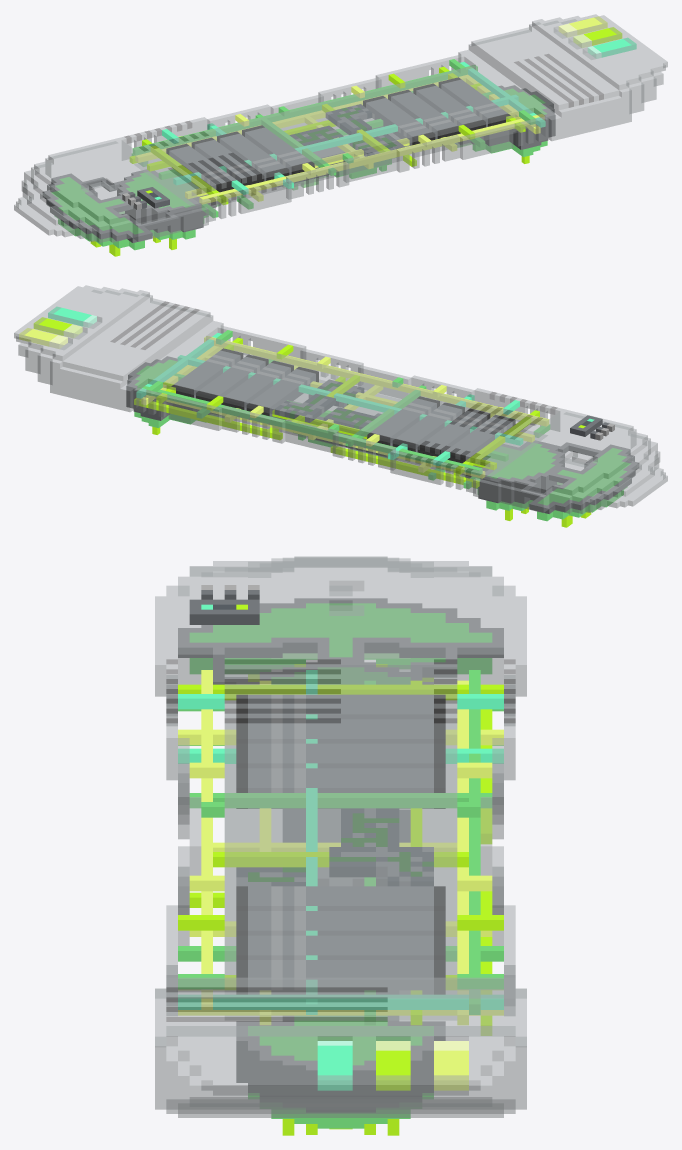
File: hoverboard_01.glb
The picture shows the model from 3 angles, top to bottom: view 1: azimuth 30°, elevation 25°; view 2: azimuth 150°, elevation 25°; view 3: azimuth 270°, elevation 25°; orthographic projection. The views are drawn at different scales.
Parts seen in each view (by area): view 1: board, emission.vox-0, metal-details.vox-0; view 2: board, emission.vox-0, metal-details.vox-0; view 3: board, emission.vox-0, metal-details.vox-0.
Boxes of the visible parts, <box> form: board: <box>14,14,667,242</box>; emission.vox-0: <box>51,16,636,256</box>; metal-details.vox-0: <box>42,85,555,242</box>; board: <box>14,285,667,513</box>; emission.vox-0: <box>19,306,630,527</box>; metal-details.vox-0: <box>126,356,639,513</box>; board: <box>155,556,526,1117</box>; emission.vox-0: <box>178,603,503,1135</box>; metal-details.vox-0: <box>178,585,503,1112</box>.
Size of the model in its own units: 12 by 1.6 by 3.2.
3 materials, 3 textured.
